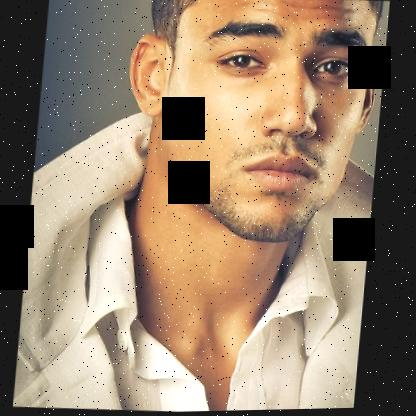Male: (114, 0, 381, 248)
